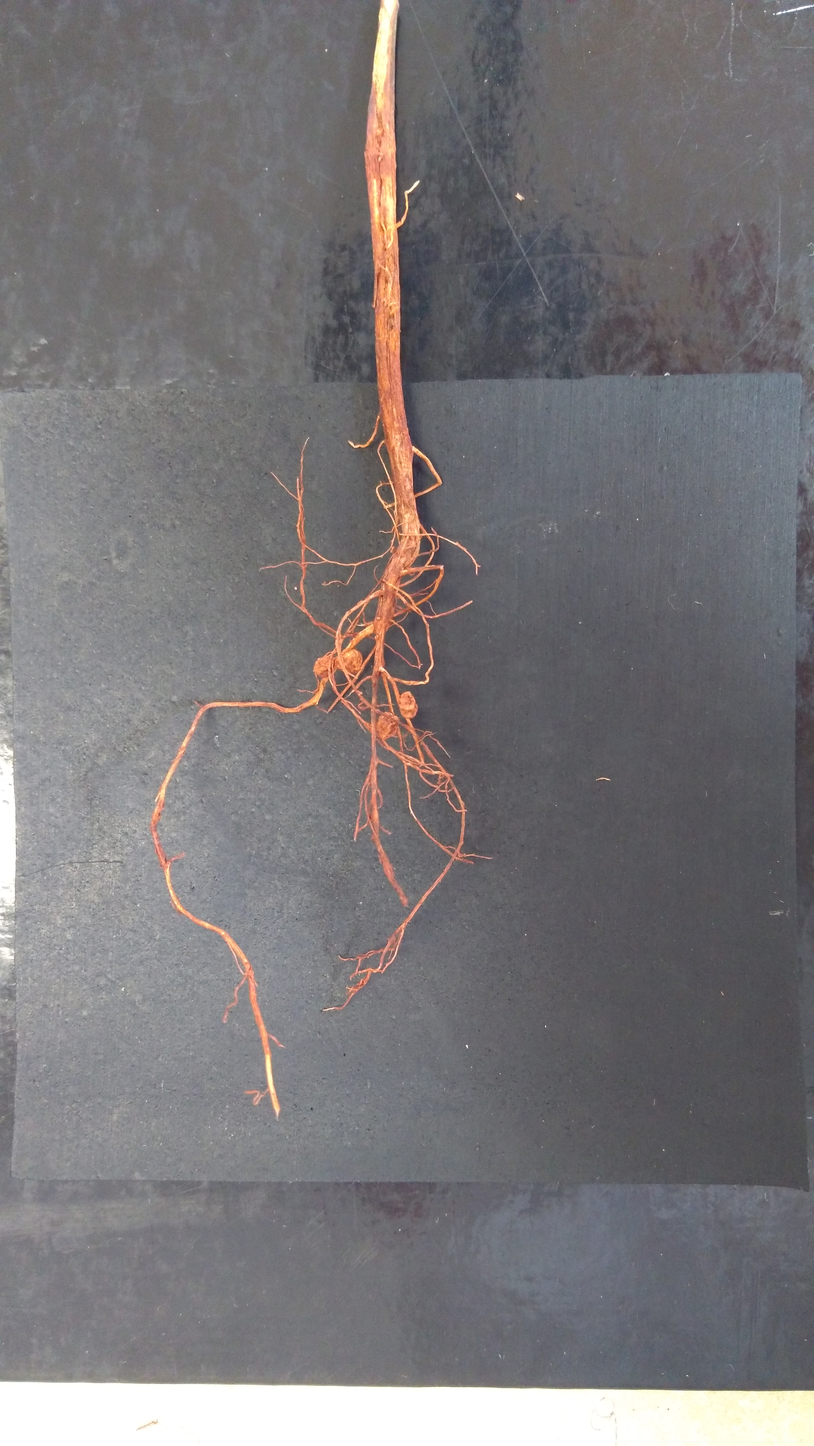nodule: (335, 649, 362, 674), (376, 712, 399, 740), (399, 691, 418, 718), (314, 655, 335, 678), (408, 566, 415, 576)
